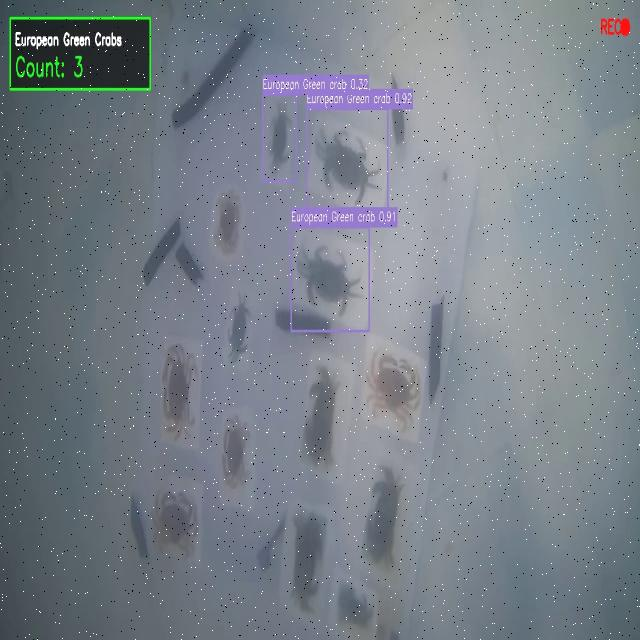European_Green_Crab: (313, 113, 387, 212), (291, 236, 368, 324), (222, 291, 254, 377), (266, 95, 295, 174)
